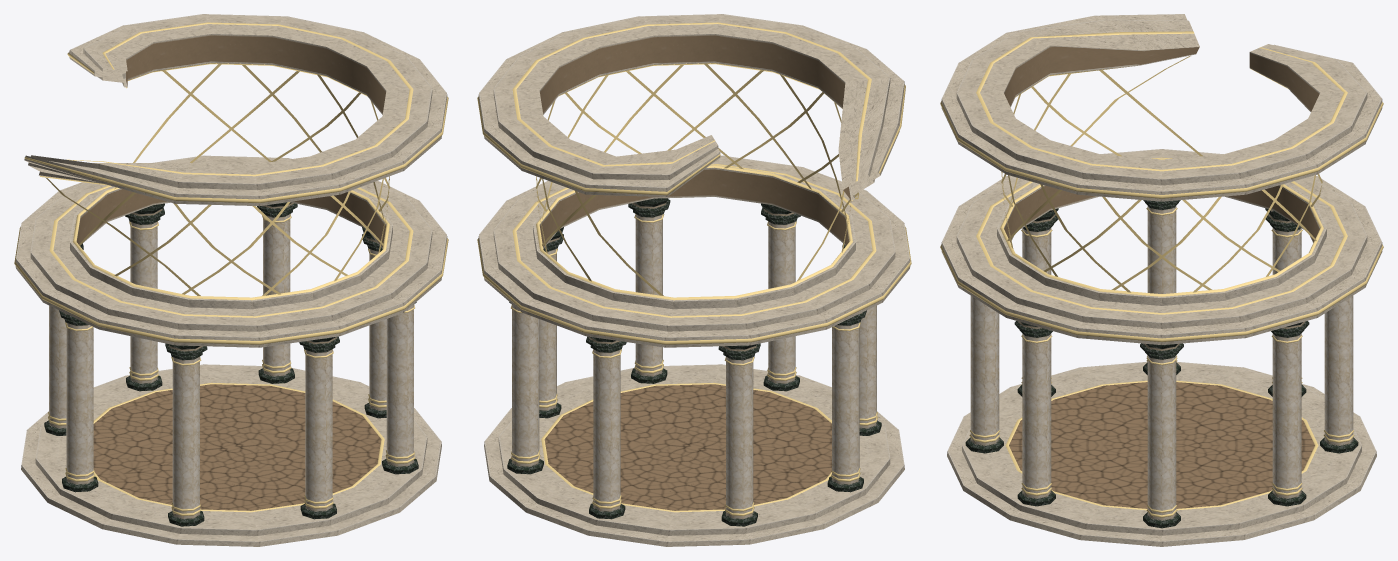
Rendered from Tower_Base_02_Art.glb.
3 renders of one model, left to right at view 1: azimuth 30°, elevation 25°; view 2: azimuth 150°, elevation 25°; view 3: azimuth 270°, elevation 25°, orthographic.
Visible parts, largest first — view 1: Tower_Base_02_Art; view 2: Tower_Base_02_Art; view 3: Tower_Base_02_Art.
Boxes of the visible parts, bbox=[...] form: Tower_Base_02_Art: bbox=[14, 14, 448, 546]; Tower_Base_02_Art: bbox=[477, 14, 911, 546]; Tower_Base_02_Art: bbox=[940, 14, 1383, 546].
Bounding box in the file's own units: 16.03 × 14.67 × 15.74.
1 material, 1 textured.
